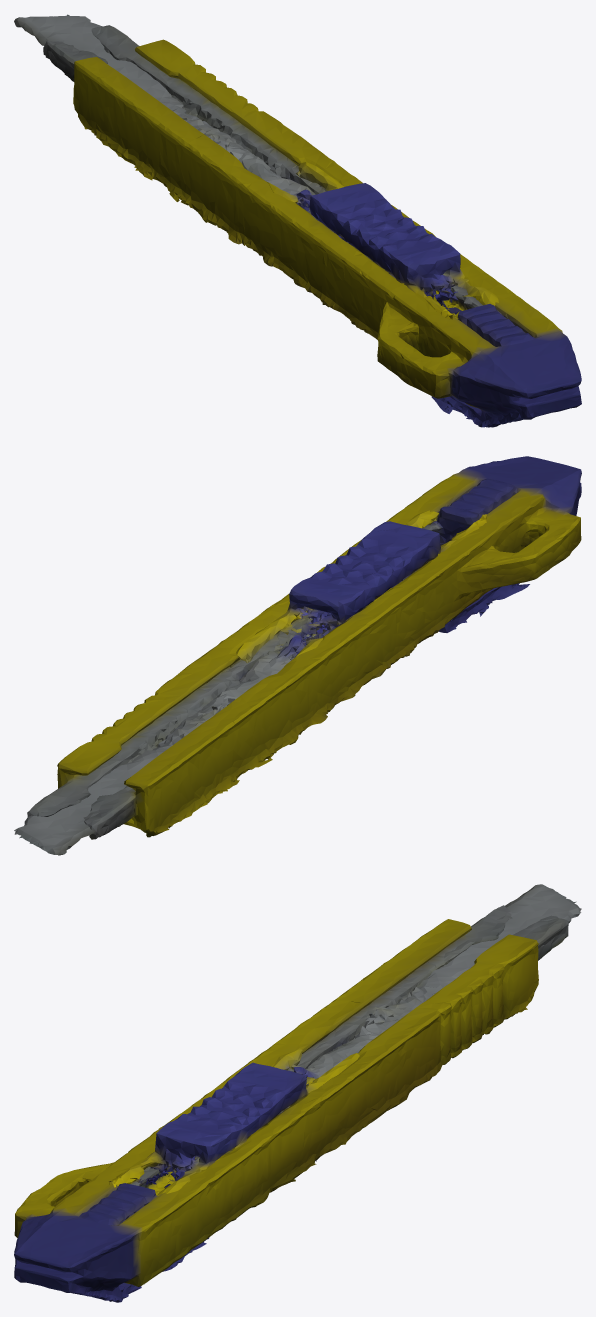
The model's file is blade_103706.glb.
3 views of the same model, one above another, from view 1: azimuth 30°, elevation 25°; view 2: azimuth 150°, elevation 25°; view 3: azimuth 330°, elevation 25° (orthographic).
Visible parts, largest first — view 1: blade_103706_start_0, blade_103706_start_1; view 2: blade_103706_start_0, blade_103706_start_1; view 3: blade_103706_start_0, blade_103706_start_1.
Boxes of the visible parts, x1,y1,x2,y2 form: blade_103706_start_0: (43,25,581,427); blade_103706_start_1: (14,14,498,319); blade_103706_start_0: (27,456,581,839); blade_103706_start_1: (14,510,487,855); blade_103706_start_0: (14,905,568,1302); blade_103706_start_1: (108,884,581,1195).
Bounding box in the file's own units: 0.3104 × 0.2019 × 1.95.
